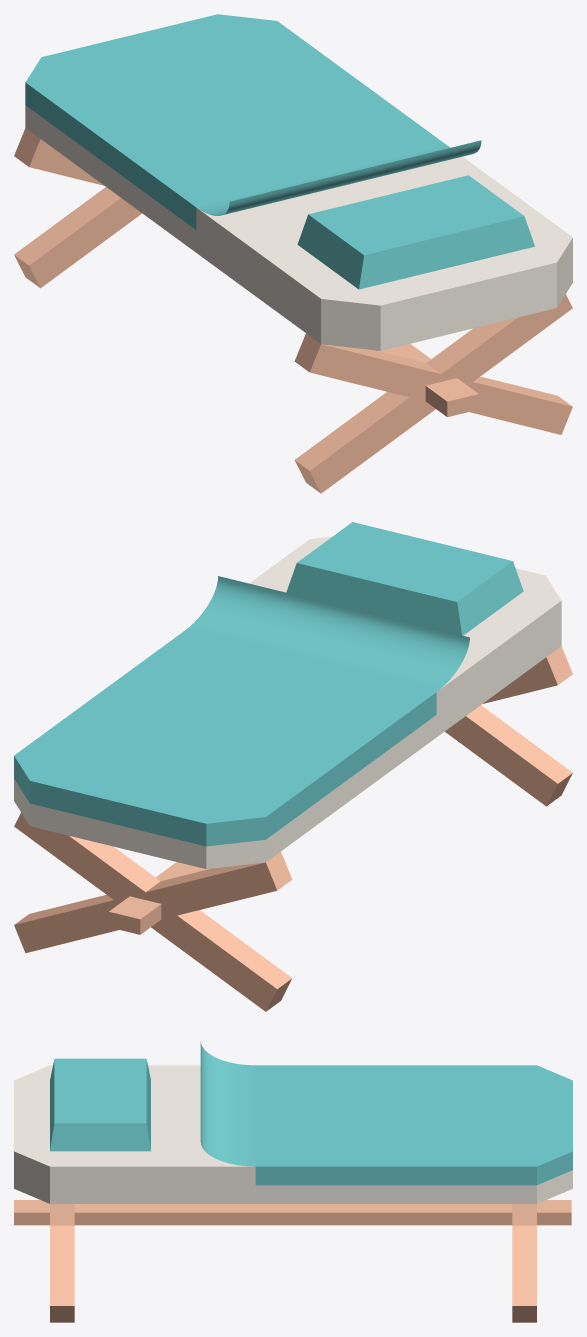
The model's file is bed.glb.
3 views of the same model, one above another, from view 1: azimuth 30°, elevation 25°; view 2: azimuth 150°, elevation 25°; view 3: azimuth 270°, elevation 25° (orthographic). The views are drawn at different scales.
Parts seen in each view (by area): view 1: bed; view 2: bed; view 3: bed.
Boxes of the visible parts, <box> form: bed: <box>14,14,572,493</box>; bed: <box>14,522,572,1011</box>; bed: <box>14,1041,572,1322</box>.
Size of the model in its own units: 0.3349 by 0.2737 by 0.7473.
